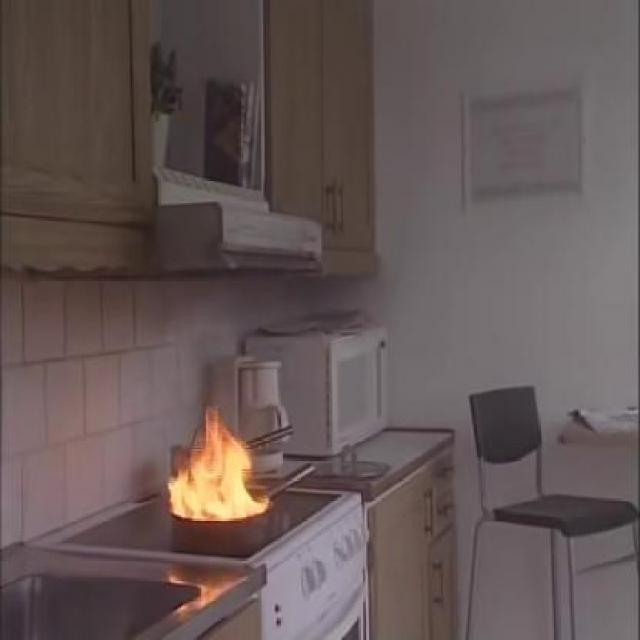fire: (162, 417, 280, 520)
